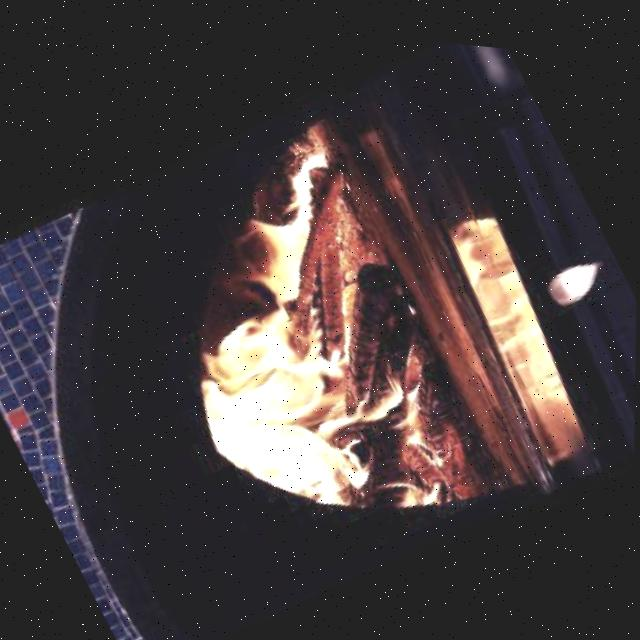Fire: (94, 111, 501, 605), (428, 197, 611, 462)
